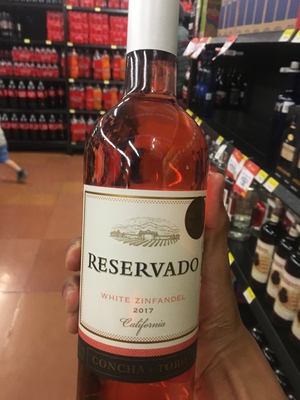reservado white zinfandel: (80, 12, 210, 397)
